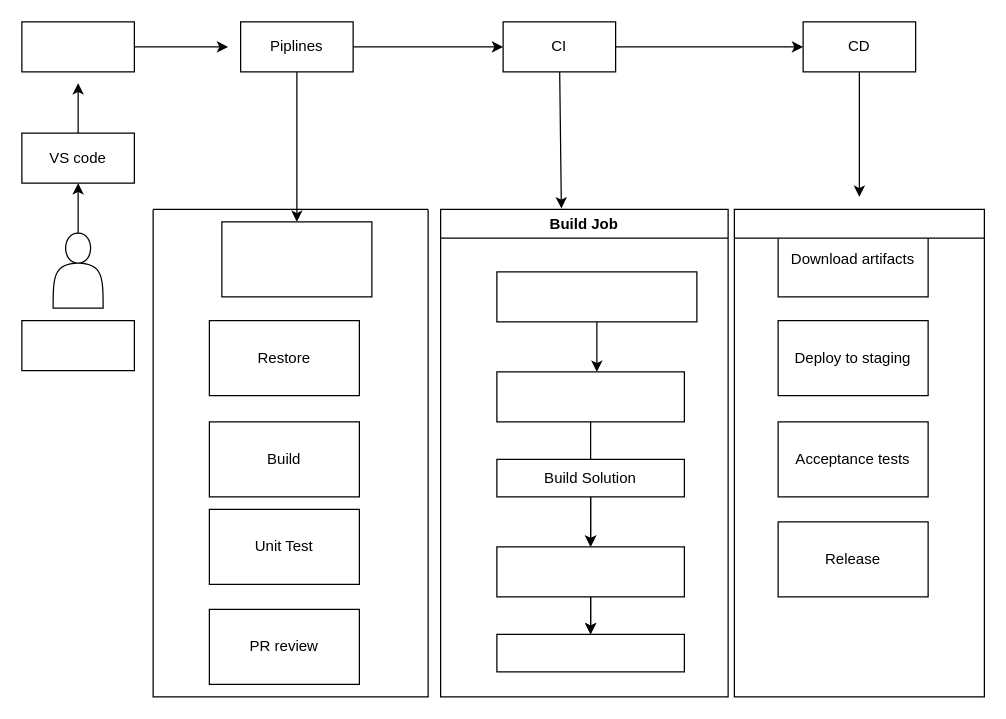
The diagram is 1006 pixels wide and 719 high, and some of its shapes have lost their labels. Each missing label, with the centre of its shape:
"Code Analysis - Lint - Securitu Scanning - Other tools" belongs at (x=296, y=259).
"Developer" belongs at (x=77, y=345).
"Get Source" belongs at (x=596, y=296).
"Git" belongs at (x=77, y=46).
"Install Tools" belongs at (x=590, y=396).
"Package Artifacts" belongs at (x=590, y=652).
"Run Tests" belongs at (x=590, y=571).
